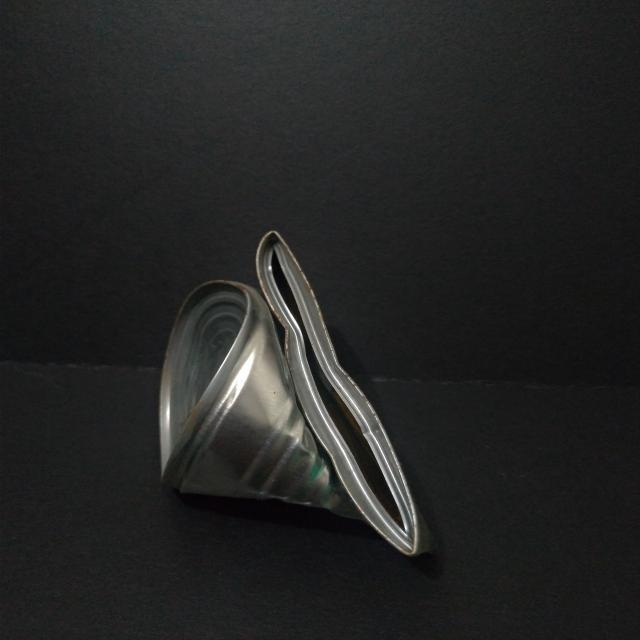metal-can: (155, 225, 437, 563)
